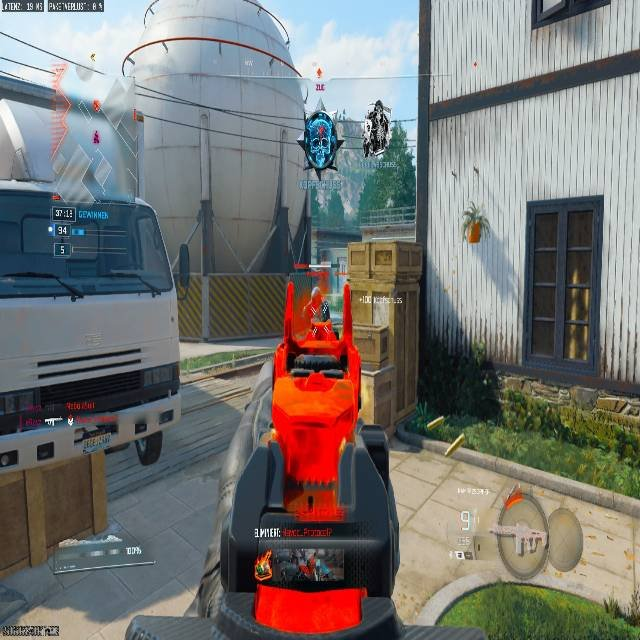player: (362, 97, 392, 157)
